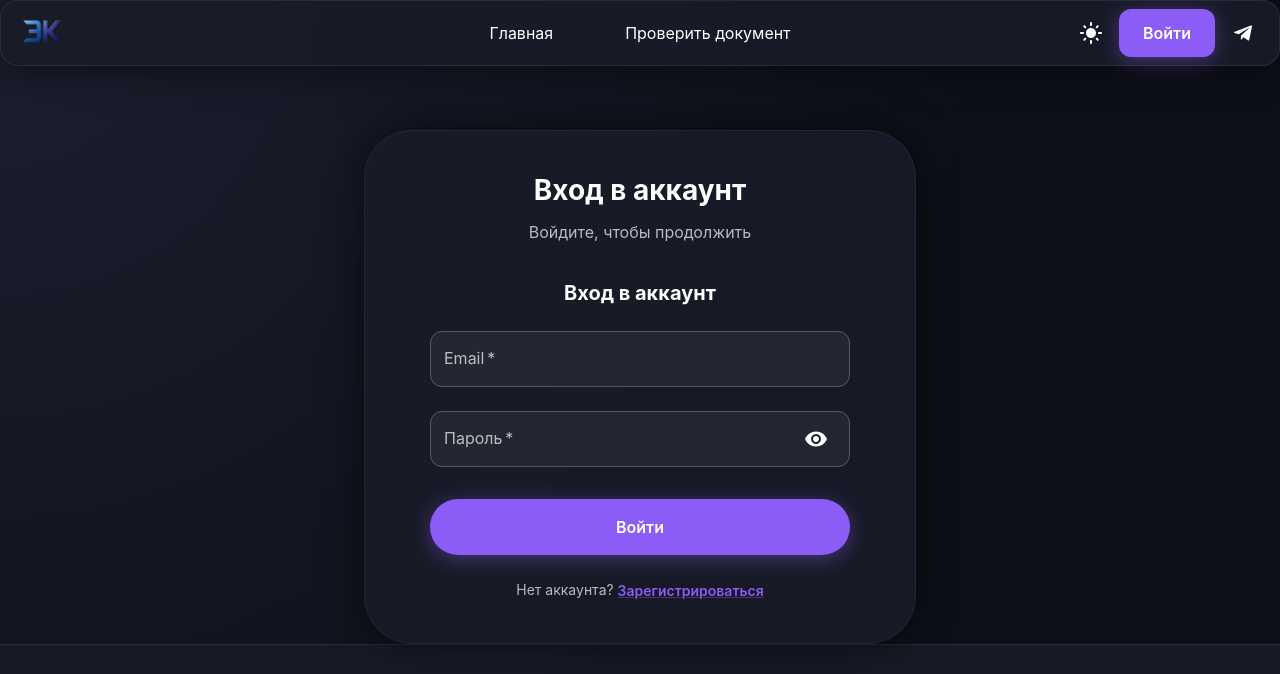
Процесс аутентификации › Регистрация › должен отображать форму регистрации при нажатии ссылки
Step 1. Click the button "Зарегистрироваться" → (691, 591), box [618,580,764,602]
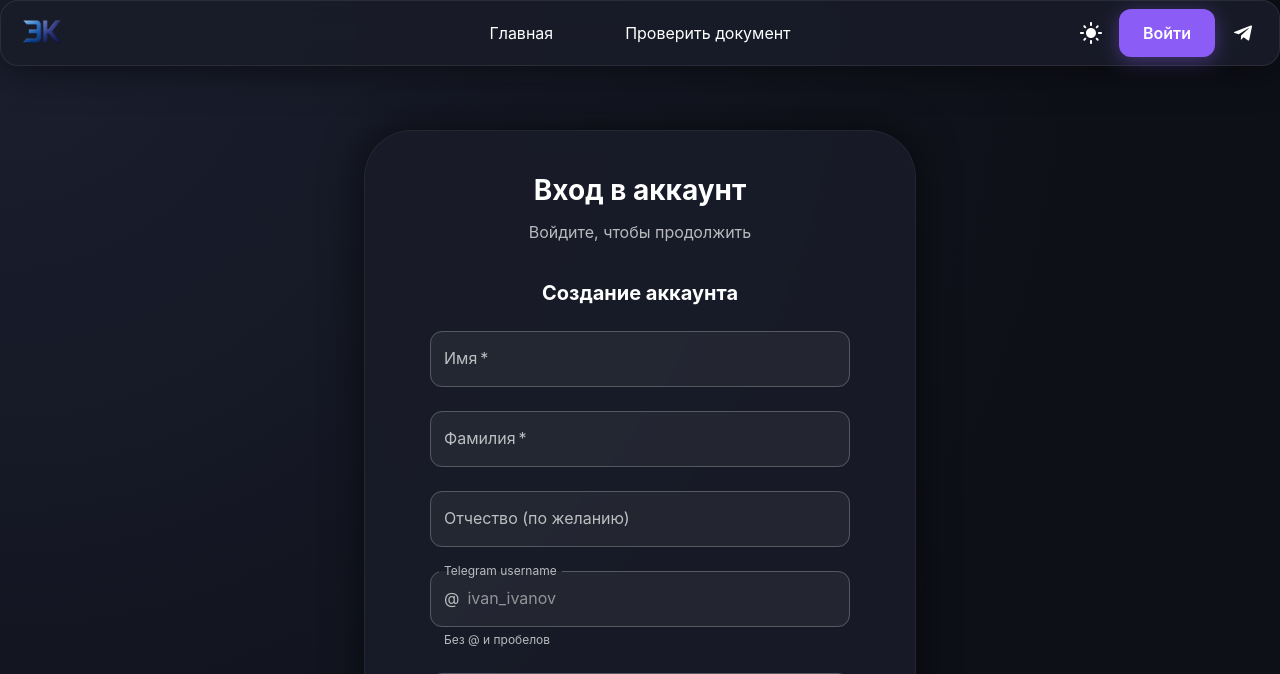
Result: the field labelled "Имя *" is shown at [430,331,850,387]
